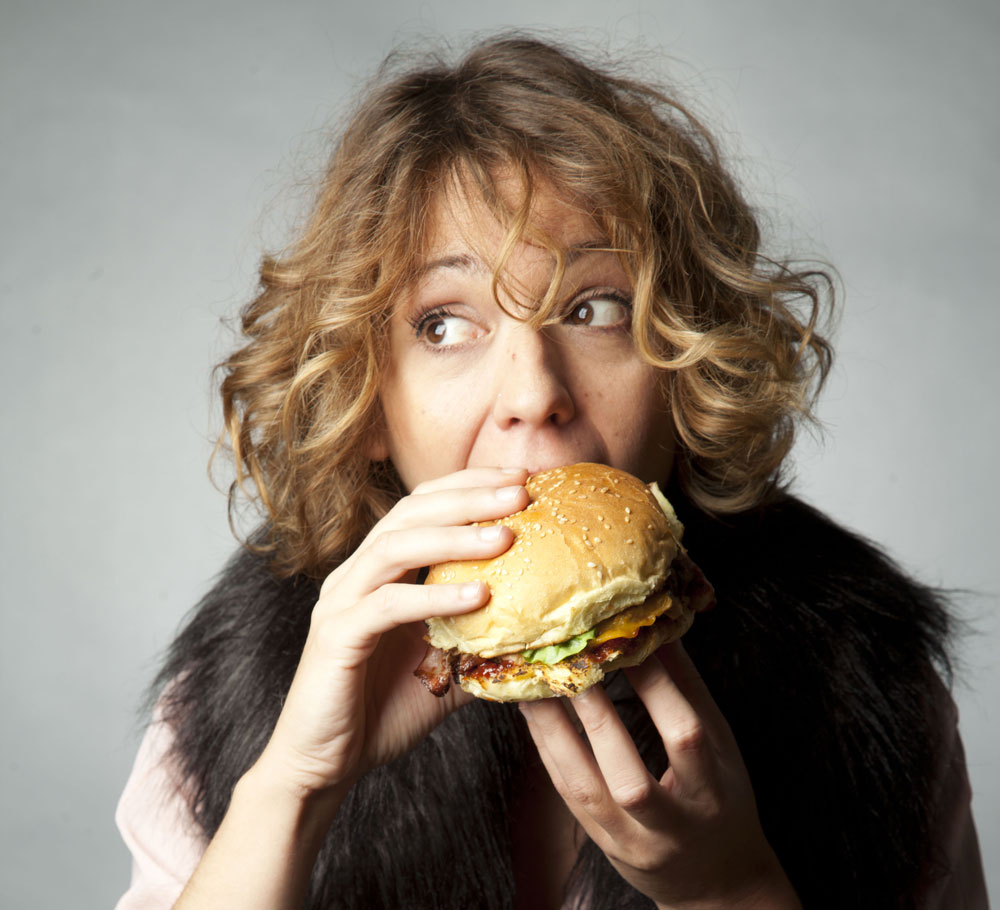eating: (109, 27, 875, 681)
